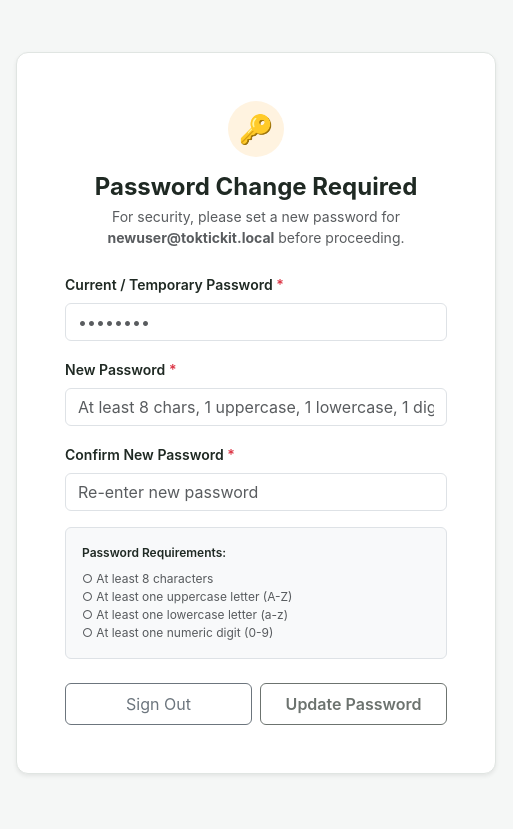
Test case: Lab 3 Mandatory Password Change Flow (UI-02, AC-03, TEST-AUTH-05) › validates complexity requirements and completes password change
This screenshot has width=513, height=829.
Expected: the form with test id "change-password-form" is shown, x1=65 y1=272 x2=447 y2=725
Note: Invalid weak password
Step 1. Type "InitialPassword123!" into the password field with test id "current-password-input" → (256, 322), box x1=65 y1=303 x2=447 y2=341
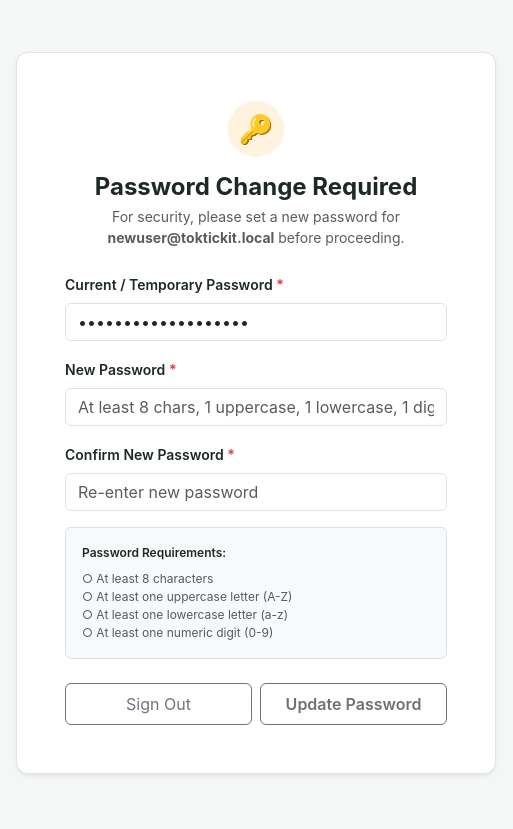
Step 2. Type "weak" into the password field with test id "new-password-input" → (256, 407), box x1=65 y1=388 x2=447 y2=426
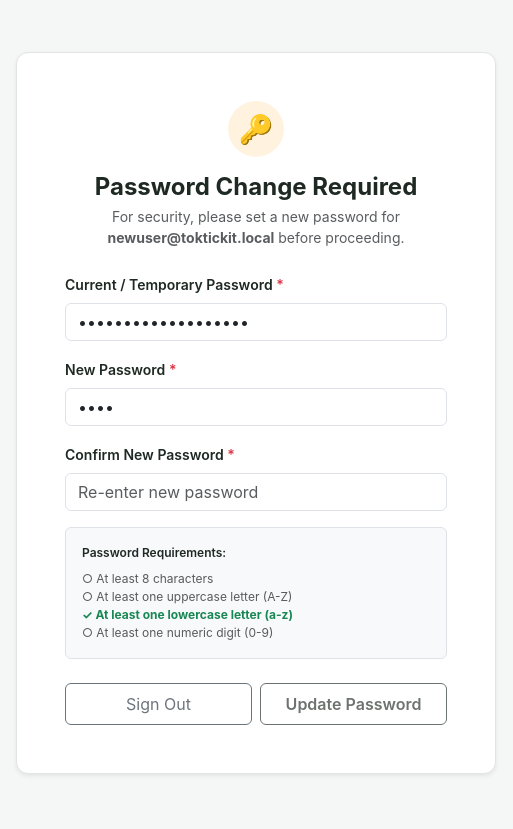
Step 3. Type "weak" into the password field with test id "confirm-password-input" → (256, 492), box x1=65 y1=473 x2=447 y2=511
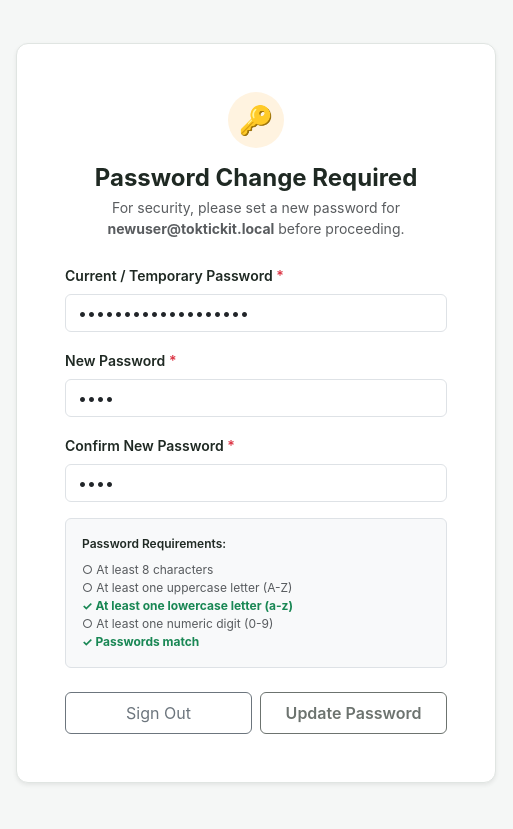
Expected: the button with test id "change-password-submit-button" is disabled, x1=260 y1=692 x2=447 y2=734
Note: Valid strong password
Step 4. Type "NewSecurePass2026!" into the password field with test id "new-password-input" → (256, 398), box x1=65 y1=379 x2=447 y2=417
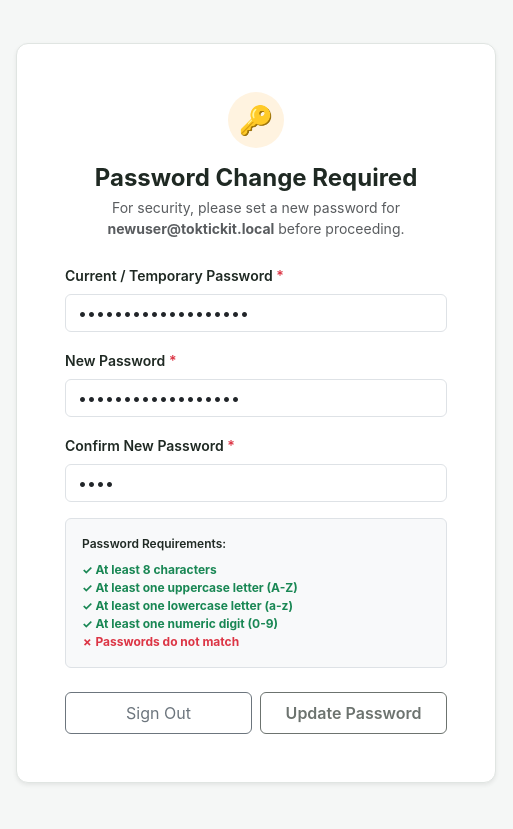
Step 5. Type "NewSecurePass2026!" into the password field with test id "confirm-password-input" → (256, 483), box x1=65 y1=464 x2=447 y2=502
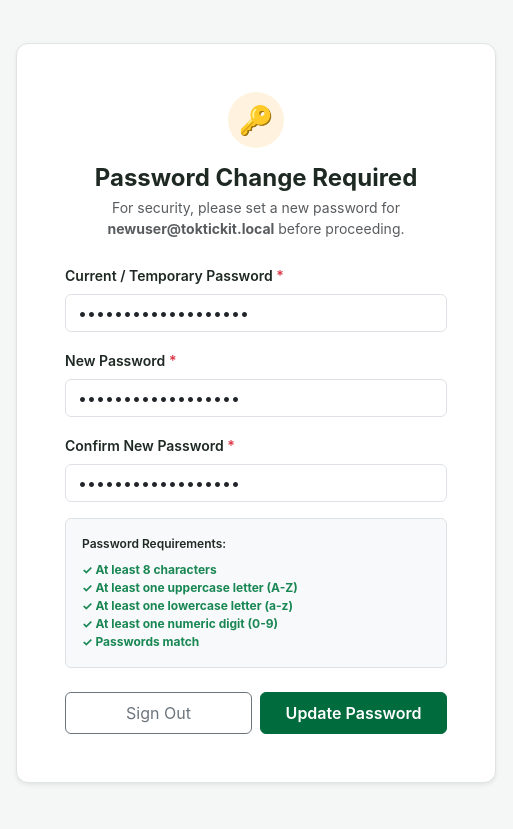
Expected: the button with test id "change-password-submit-button" is enabled
Step 6. Click the button with test id "change-password-submit-button" → (354, 713), box x1=260 y1=692 x2=447 y2=734
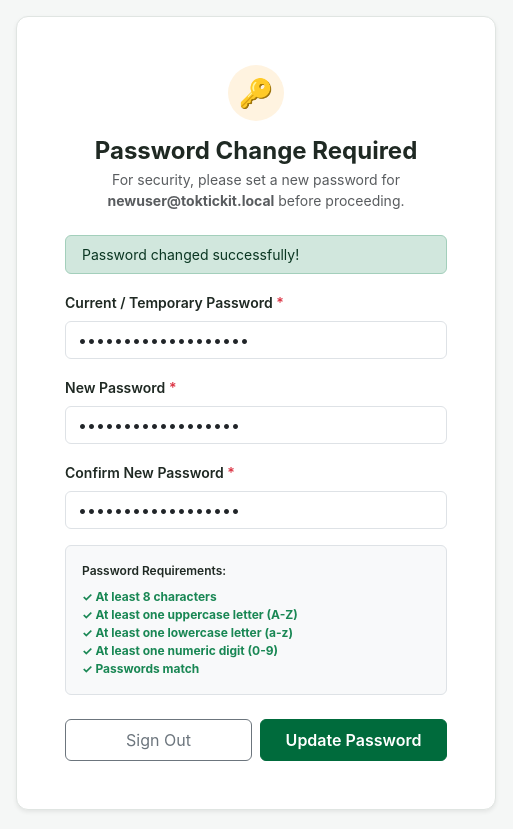
Expected: the message "Password changed successfully!" is shown, x1=65 y1=235 x2=447 y2=274
